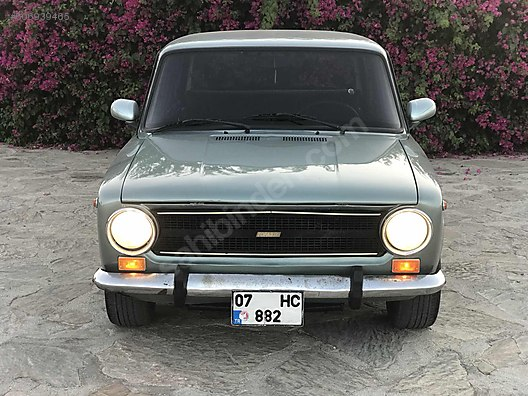murat: (96, 29, 449, 335)
